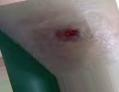Spider: (35, 15, 101, 63)
